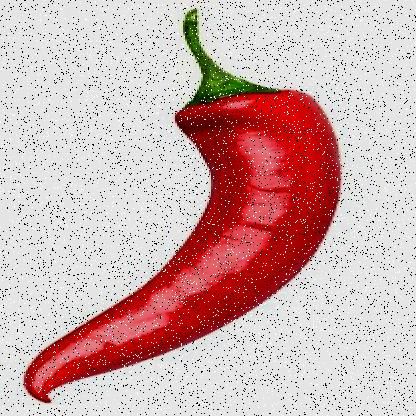chili: (18, 9, 346, 403)
